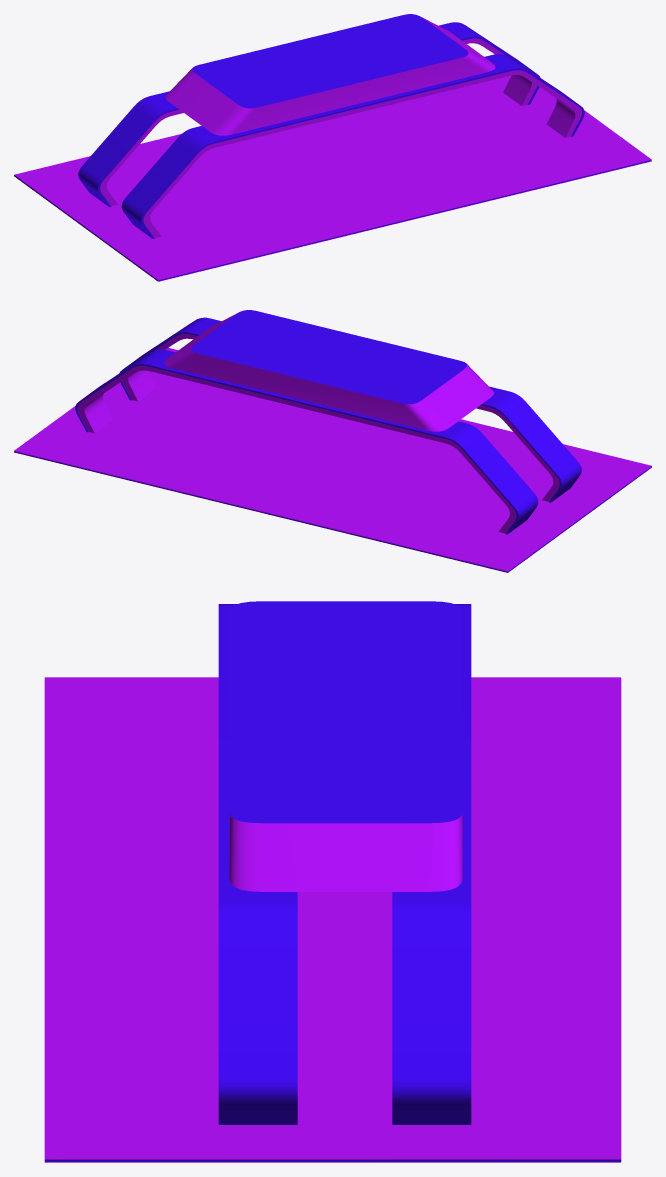
The model's file is Exhibition_B.FBX.
The picture shows the model from 3 angles, top to bottom: view 1: azimuth 30°, elevation 25°; view 2: azimuth 150°, elevation 25°; view 3: azimuth 270°, elevation 25°; orthographic projection. The views are drawn at different scales.
Parts seen in each view (by area): view 1: Exhibition_B, Exhibition_B_3, Exhibition_B_2; view 2: Exhibition_B, Exhibition_B_3, Exhibition_B_2; view 3: Exhibition_B, Exhibition_B_3, Exhibition_B_2.
Boxes of the visible parts, <box> form: Exhibition_B: <box>14,75,651,281</box>; Exhibition_B_3: <box>165,14,495,135</box>; Exhibition_B_2: <box>78,22,584,238</box>; Exhibition_B: <box>14,348,651,572</box>; Exhibition_B_3: <box>163,310,494,431</box>; Exhibition_B_2: <box>75,317,581,534</box>; Exhibition_B: <box>44,677,621,1162</box>; Exhibition_B_3: <box>229,601,462,891</box>; Exhibition_B_2: <box>218,604,471,1124</box>.
Size of the model in its own units: 2736 by 556 by 1384.
